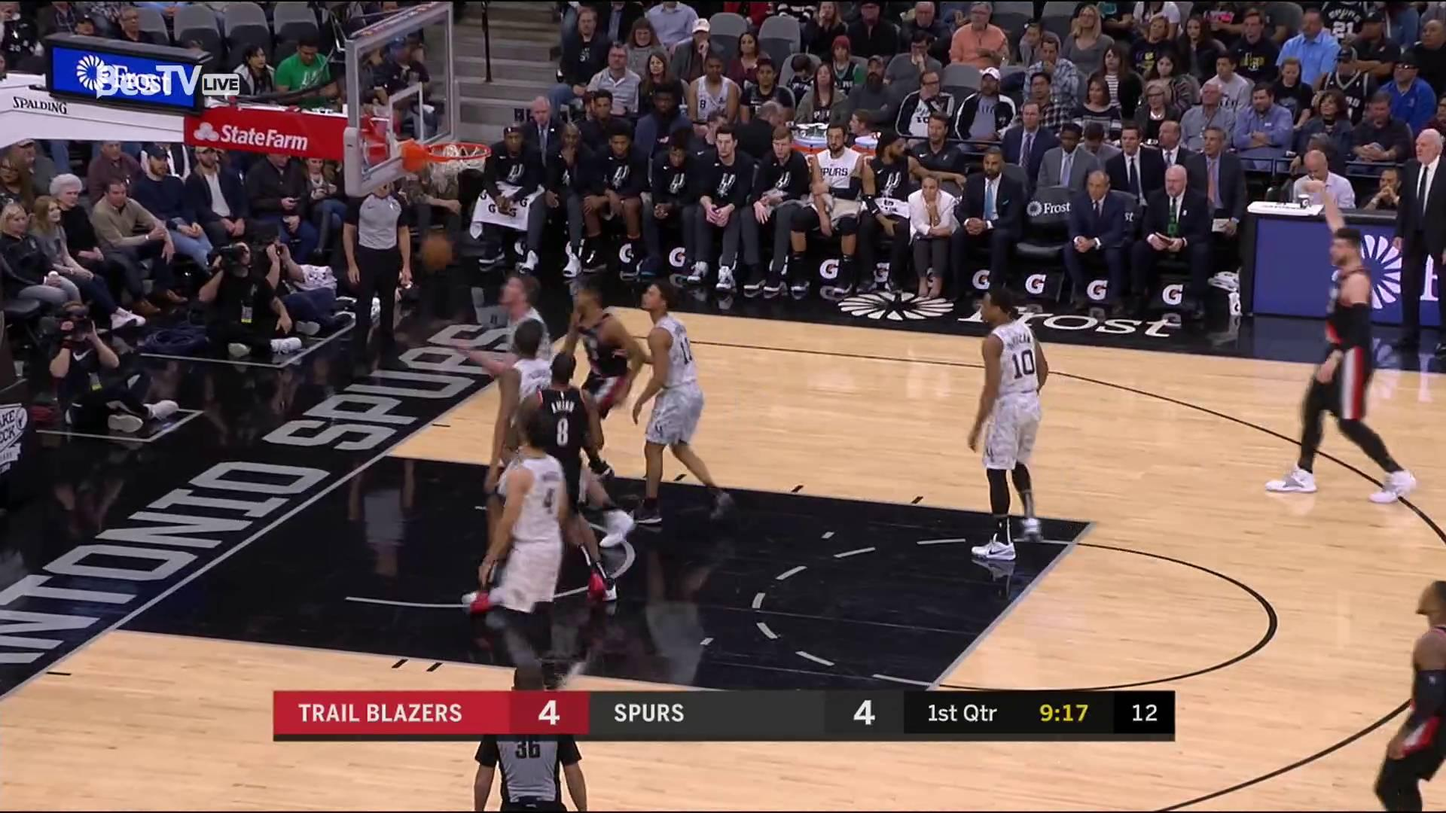basketball: (422, 232, 453, 270)
